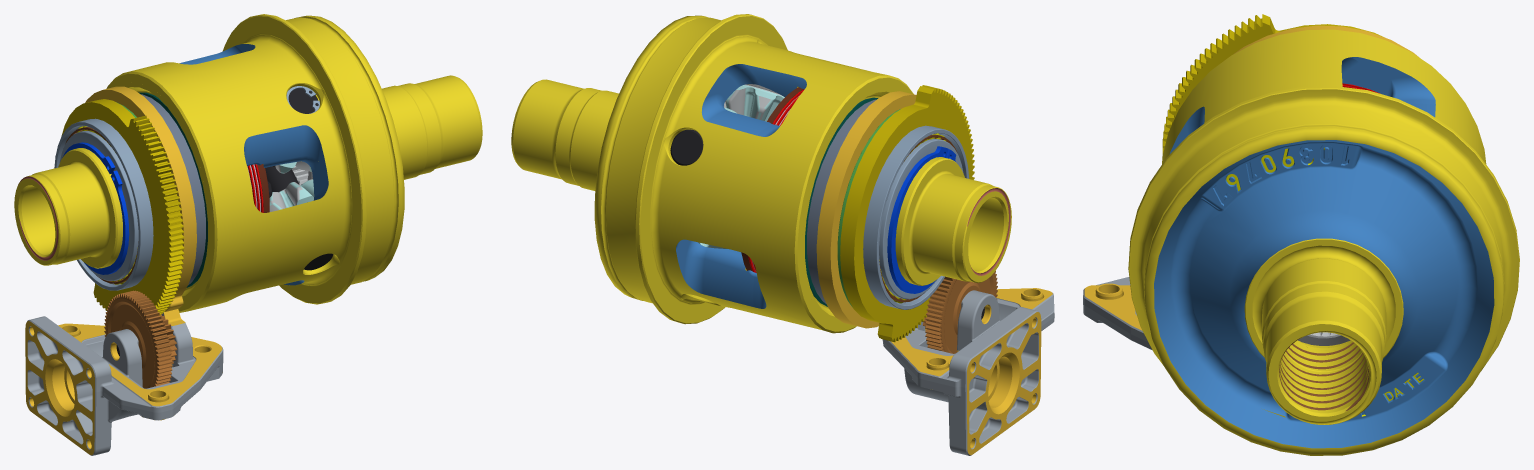
File: TaycanGearRotation1.glb
3 renders of one model, left to right at view 1: azimuth 30°, elevation 25°; view 2: azimuth 150°, elevation 25°; view 3: azimuth 270°, elevation 25°, orthographic. The views are drawn at different scales.
Parts seen in each view (by area): view 1: 1600034145_PRT__K_4, Mesh_136, 1600034146_PRT__G_2, 1600032356_PRT__G_2, DIN628_SNR_65X92X10_5IR_PRT__A, Mesh_138, 1600032111_PRT__D_2, 1600030653_PRT__E_2, DIN471-A65-2_3_PRT__F_1, 1600032191_PRT__C_3.002, 1905540008_PRT__F_10, 1905540009_PRT__H_9; view 2: 1600034145_PRT__K_4, Mesh_136, 1600034146_PRT__G_2, 1600032356_PRT__G_2, DIN628_SNR_65X92X10_5IR_PRT__A, 1600032111_PRT__D_2, Mesh_138, 1600030653_PRT__E_2, DIN471-A65-2_3_PRT__F_1, 1600032191_PRT__C_3, 1905540008_PRT__F_10, 1800008349_PRT__A_10; view 3: 1600034145_PRT__K_4, 1600032356_PRT__G_2, Mesh_136, 1600032111_PRT__D_2, 1600032189_PRT__D_2.
Boxes of the visible parts, <box> form: 1600034145_PRT__K_4: <box>106,14,482,312</box>; Mesh_136: <box>25,309,223,455</box>; 1600034146_PRT__G_2: <box>14,82,210,300</box>; 1600032356_PRT__G_2: <box>61,99,184,315</box>; DIN628_SNR_65X92X10_5IR_PRT__A: <box>54,118,153,290</box>; Mesh_138: <box>104,290,177,388</box>; 1600032111_PRT__D_2: <box>85,86,196,311</box>; 1600030653_PRT__E_2: <box>138,92,207,287</box>; DIN471-A65-2_3_PRT__F_1: <box>62,142,129,274</box>; 1600032191_PRT__C_3.002: <box>269,179,314,211</box>; 1905540008_PRT__F_10: <box>265,166,333,270</box>; 1905540009_PRT__H_9: <box>273,88,318,166</box>; 1600034145_PRT__K_4: <box>511,14,913,333</box>; Mesh_136: <box>882,288,1054,455</box>; 1600034146_PRT__G_2: <box>802,87,1011,322</box>; 1600032356_PRT__G_2: <box>840,85,974,342</box>; DIN628_SNR_65X92X10_5IR_PRT__A: <box>863,125,969,309</box>; 1600032111_PRT__D_2: <box>816,91,916,328</box>; Mesh_138: <box>921,271,997,353</box>; 1600030653_PRT__E_2: <box>805,97,878,306</box>; DIN471-A65-2_3_PRT__F_1: <box>887,146,956,293</box>; 1600032191_PRT__C_3: <box>724,84,784,121</box>; 1905540008_PRT__F_10: <box>670,129,703,165</box>; 1800008349_PRT__A_10: <box>837,109,900,307</box>; 1600034145_PRT__K_4: <box>1128,29,1519,455</box>; 1600032356_PRT__G_2: <box>1162,14,1384,154</box>; Mesh_136: <box>1083,277,1152,350</box>; 1600032111_PRT__D_2: <box>1224,25,1419,60</box>; 1600032189_PRT__D_2: <box>1298,332,1350,345</box>.
Size of the model in its own units: 0.2605 by 0.196 by 0.1757.
